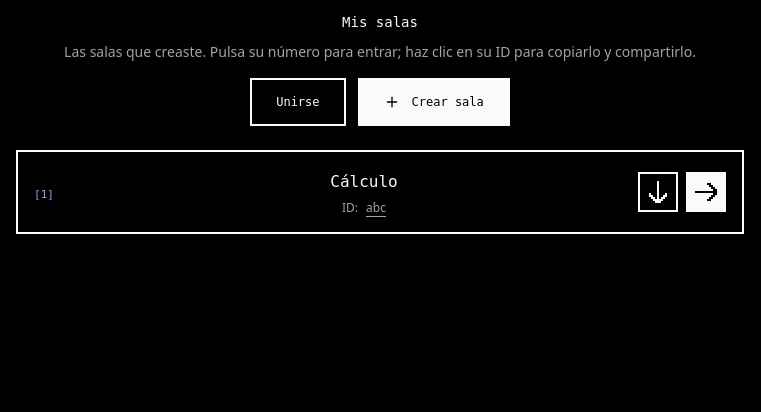
Test: Editar y eliminar desde «Mis salas» (US-07) › eliminar pide dos clics y quita la sala de la lista
This screenshot has width=761, height=412.
Click the button named "detalles de la sala" at (658, 192), box x1=638 y1=172 x2=678 y2=212
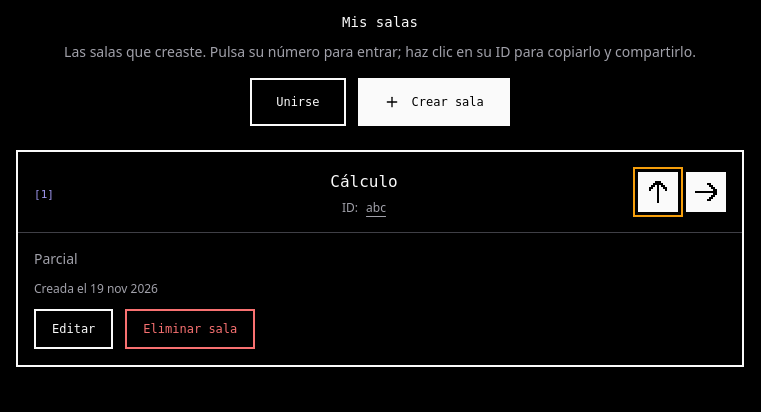
Click the button with aria-label "Eliminar la sala Cálculo" at (190, 329), box x1=125 y1=309 x2=255 y2=349
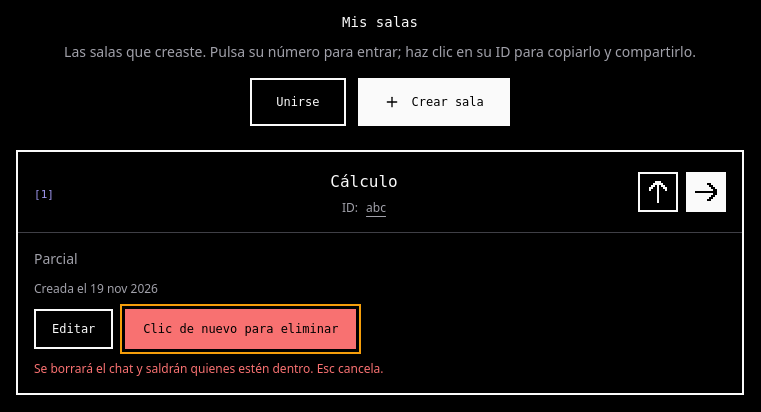
Now the text "Se borrará el chat y saldrán quienes estén dentro. Esc cancela." is shown, box x1=34 y1=360 x2=384 y2=377
Click the button "Clic de nuevo para eliminar" at (241, 329), box x1=125 y1=309 x2=356 y2=349
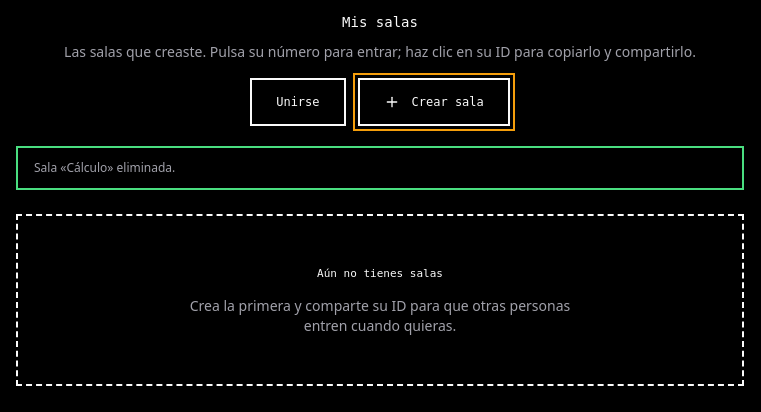
Now the text "Sala «Cálculo» eliminada." is shown, box x1=34 y1=159 x2=175 y2=176
